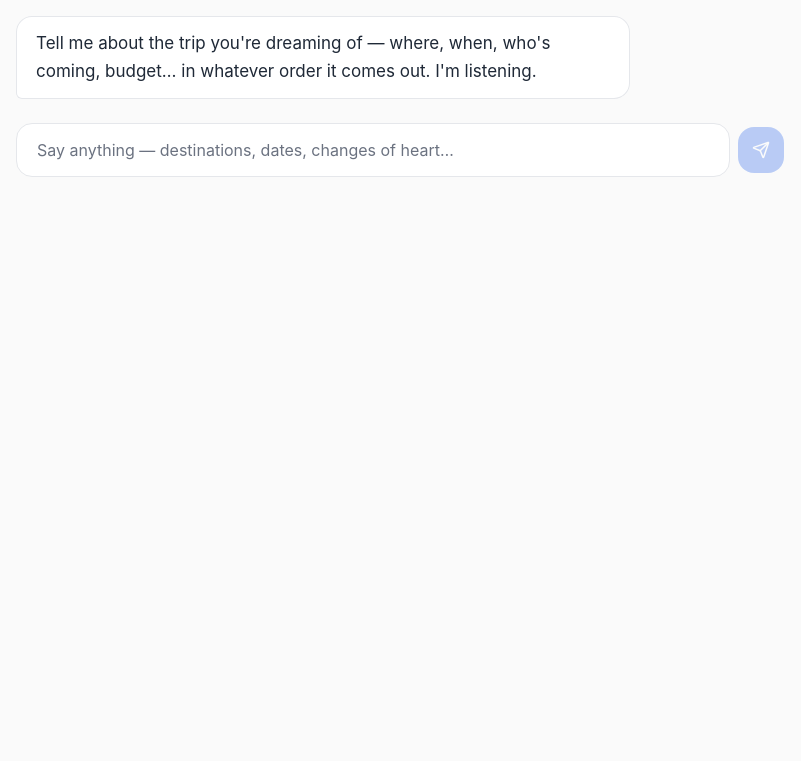
it: the calendar in the chat › shows under a dates question — from `asking` or from the question itself — and no location chip
Step 1. Type "tryna go london and madrid" into the field with placeholder "Say anything — destinations, dates, changes of heart…" → (373, 150), box [16,123,730,177]
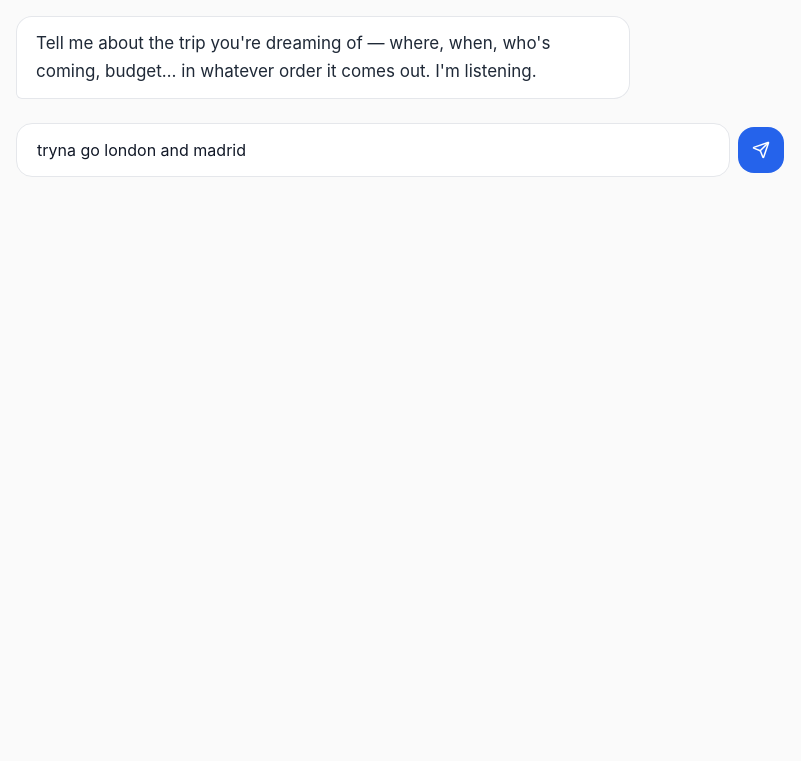
Step 2. Submit the form with placeholder "Say anything", box [16,123,784,177]
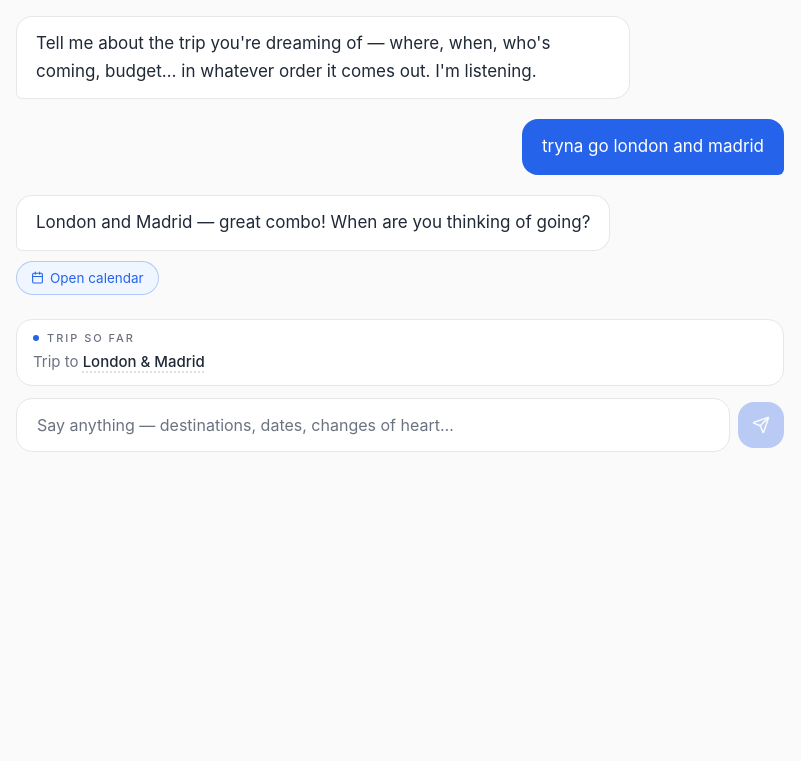
Step 3. Click the button "Open calendar" → (87, 278), box [16,260,159,295]
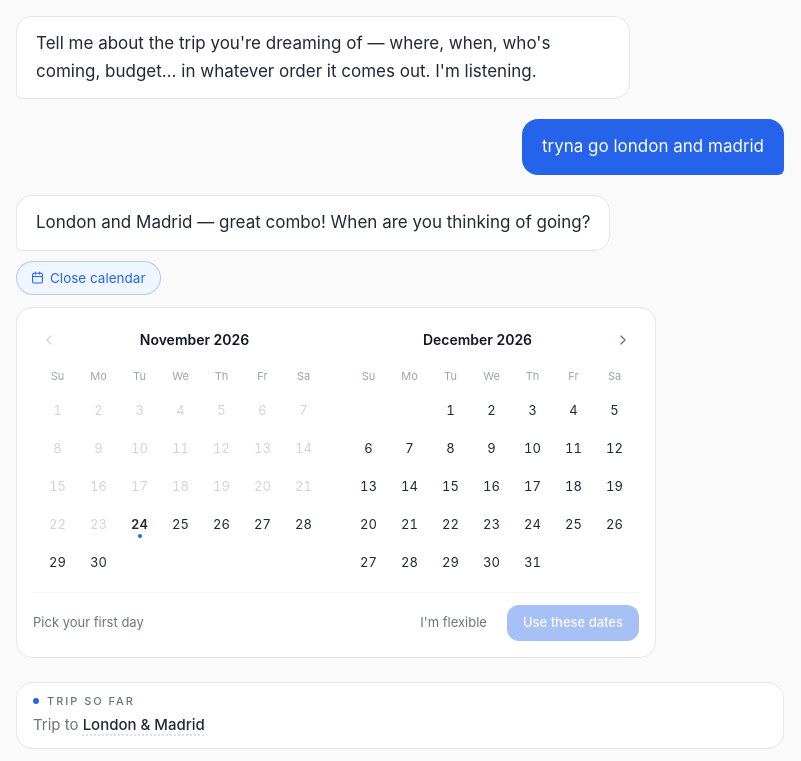
Now the element with test id "date-range-calendar" is shown, box [16,307,656,658]
